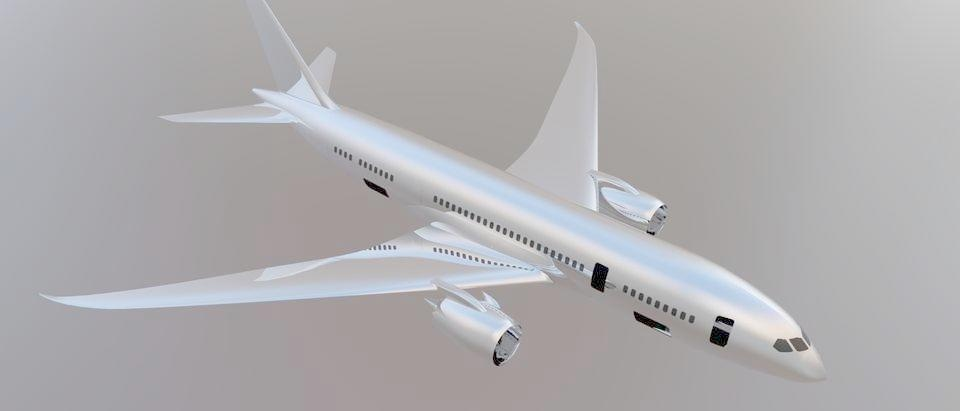airplane: (36, 17, 836, 379)
